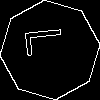L: (25, 25, 73, 57)
